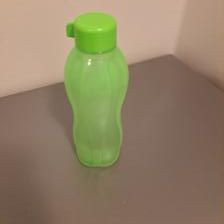bottle: (60, 10, 132, 169)
